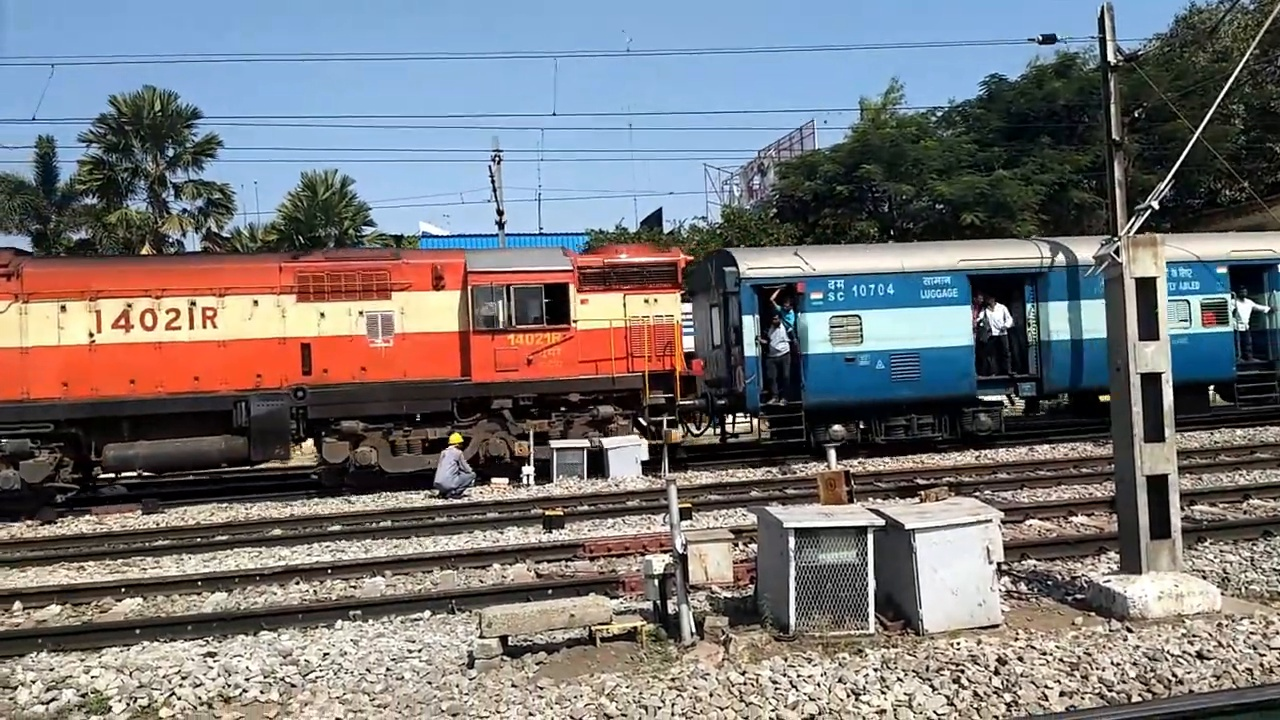Boogie: (847, 277, 903, 302)
Car Type: (913, 274, 965, 308)
Engine: (81, 303, 240, 338), (499, 328, 578, 351)
